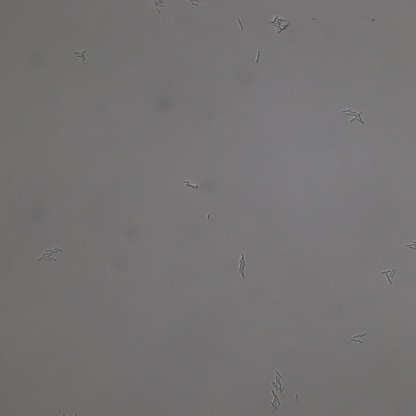R(colony): (35, 247, 61, 264), (343, 107, 365, 124), (272, 371, 285, 392), (382, 268, 397, 283), (270, 394, 281, 412), (350, 332, 366, 344)
